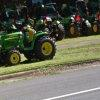Tractor: (5, 16, 64, 68)
